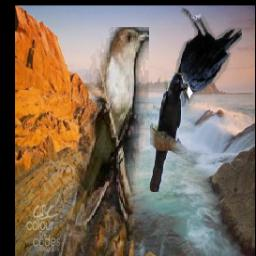Crow: (163, 8, 242, 108), (150, 73, 188, 192)
Cuckoo: (55, 27, 150, 256)
